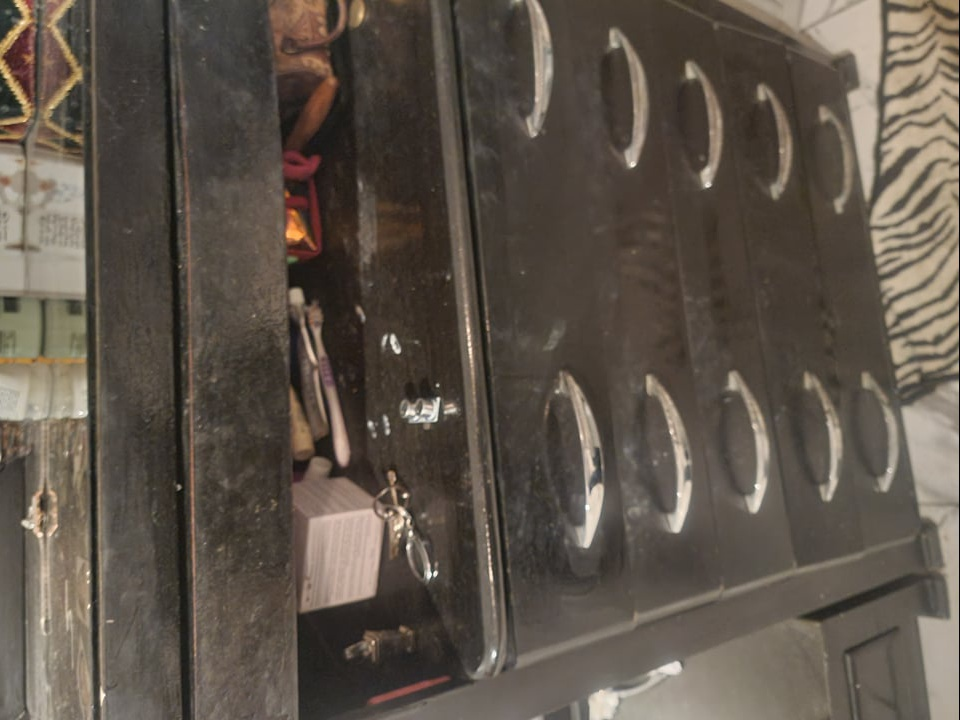SENSOR: (398, 395, 443, 426)
